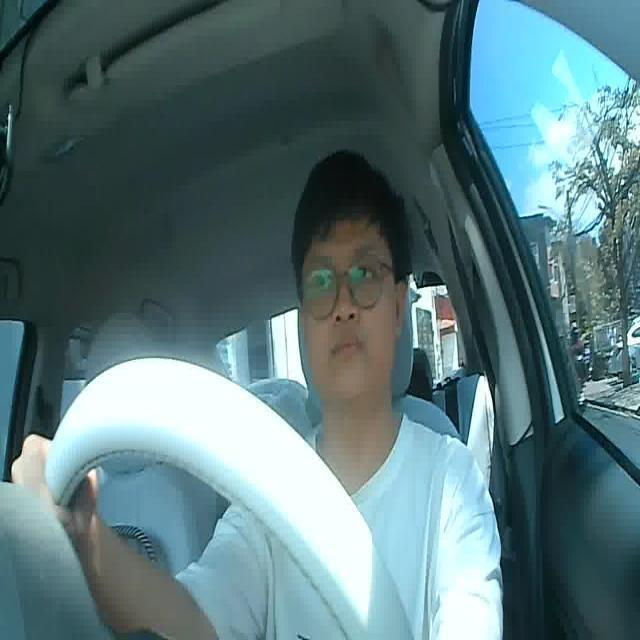Attentive: (289, 146, 412, 406)
Eye-Open: (312, 270, 336, 294), (353, 263, 376, 286)
Normal: (333, 330, 364, 362)
